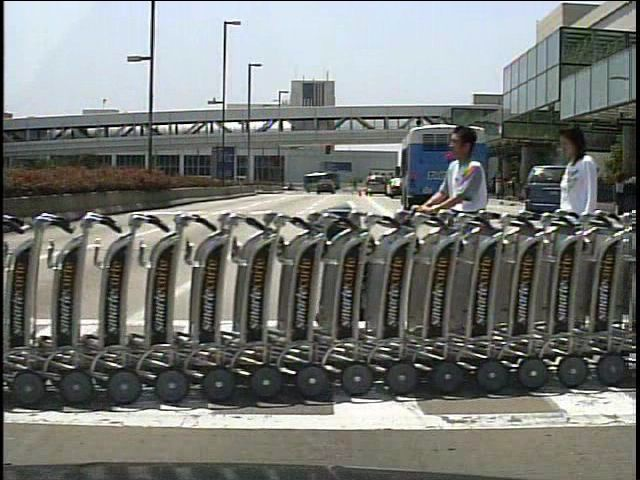person: (411, 123, 506, 365), (545, 116, 614, 330), (578, 163, 597, 218), (582, 165, 602, 215), (353, 176, 361, 196)
